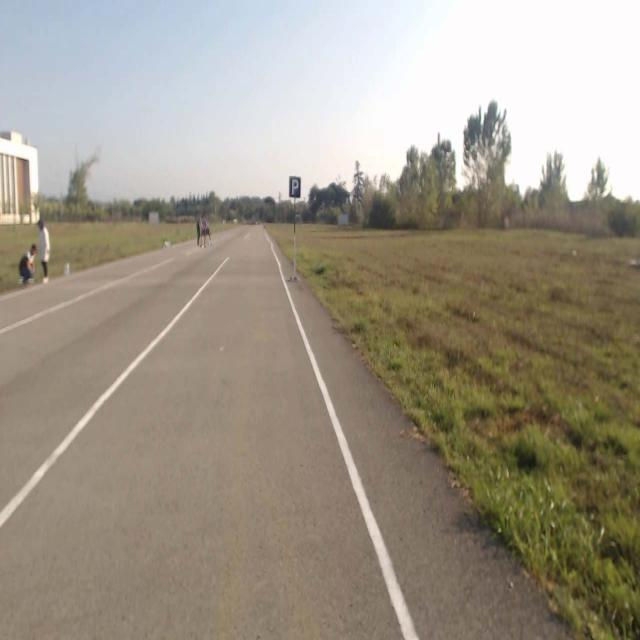park: (290, 175, 300, 198)
